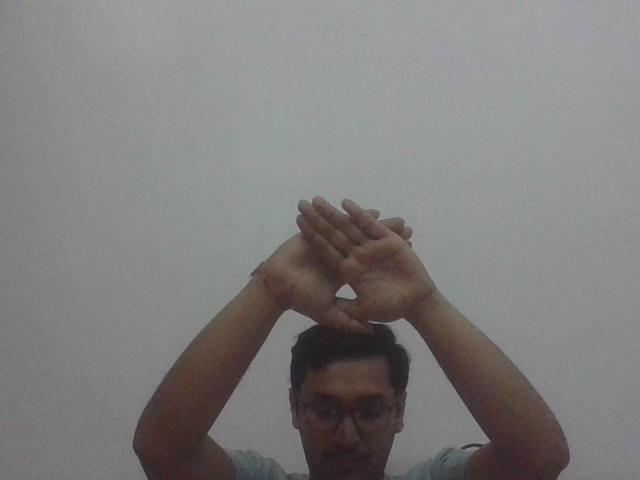W: (274, 191, 427, 335)
